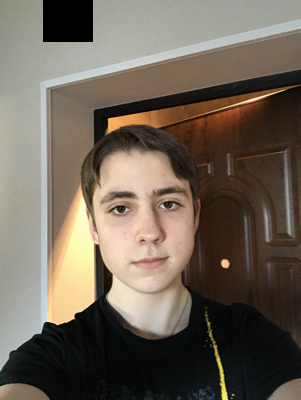without_mask: (93, 183, 194, 295)
